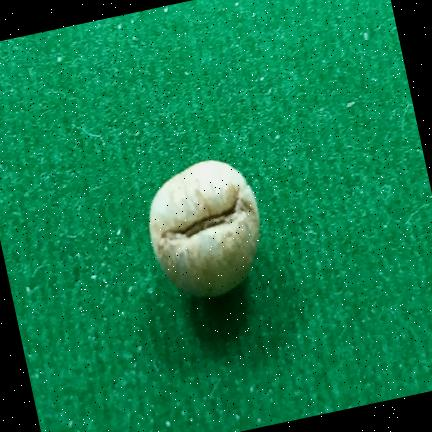good: (149, 160, 259, 297)
